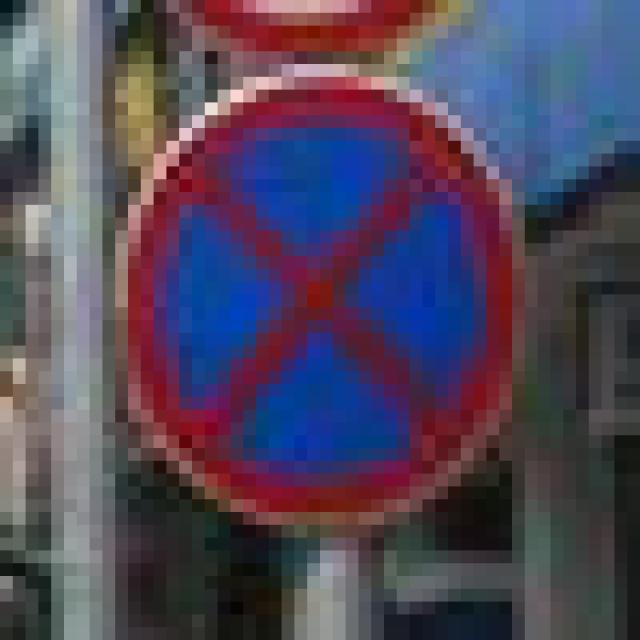no_parking: (102, 51, 525, 512)
